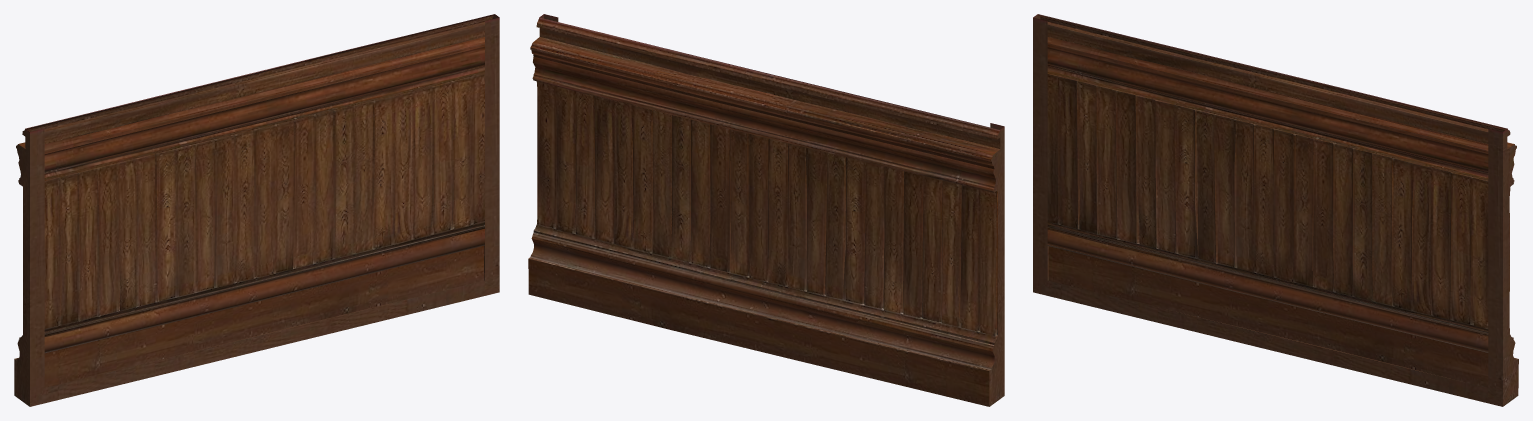
The model's file is panel-wainscot.glb.
3 views of the same model, side by side, from view 1: azimuth 30°, elevation 25°; view 2: azimuth 150°, elevation 25°; view 3: azimuth 330°, elevation 25° (orthographic).
Parts seen in each view (by area): view 1: panel-wainscot; view 2: panel-wainscot; view 3: panel-wainscot.
Part boxes in pixels (box(x1,y1,x2,y2)): panel-wainscot: box(14, 14, 499, 406); panel-wainscot: box(528, 14, 1004, 406); panel-wainscot: box(1033, 14, 1518, 406).
Size of the model in its own units: 2 by 1.12 by 0.1199.
Materials: 1 (1 with a texture image).
